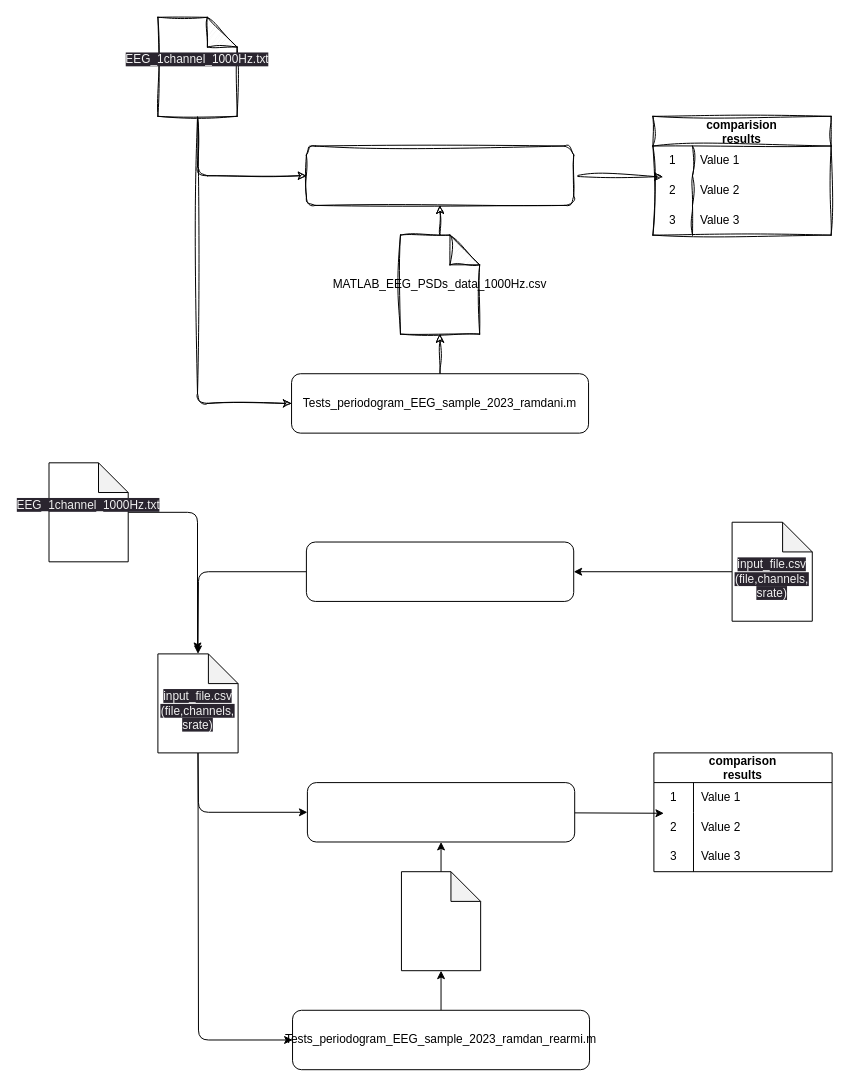
The diagram is 849 pixels wide and 1087 high, and some of its shapes have lost their labels. Each missing label, with the centre of its shape:
comparisons_1channel1000Hz.ipynb: pixel 439 175
comparisons_Rearm.ipynb: pixel 440 812
export_signals.ipynb: pixel 439 571
MATLAB_PSDs_results_channel_x_input_file.csv: pixel 440 921
